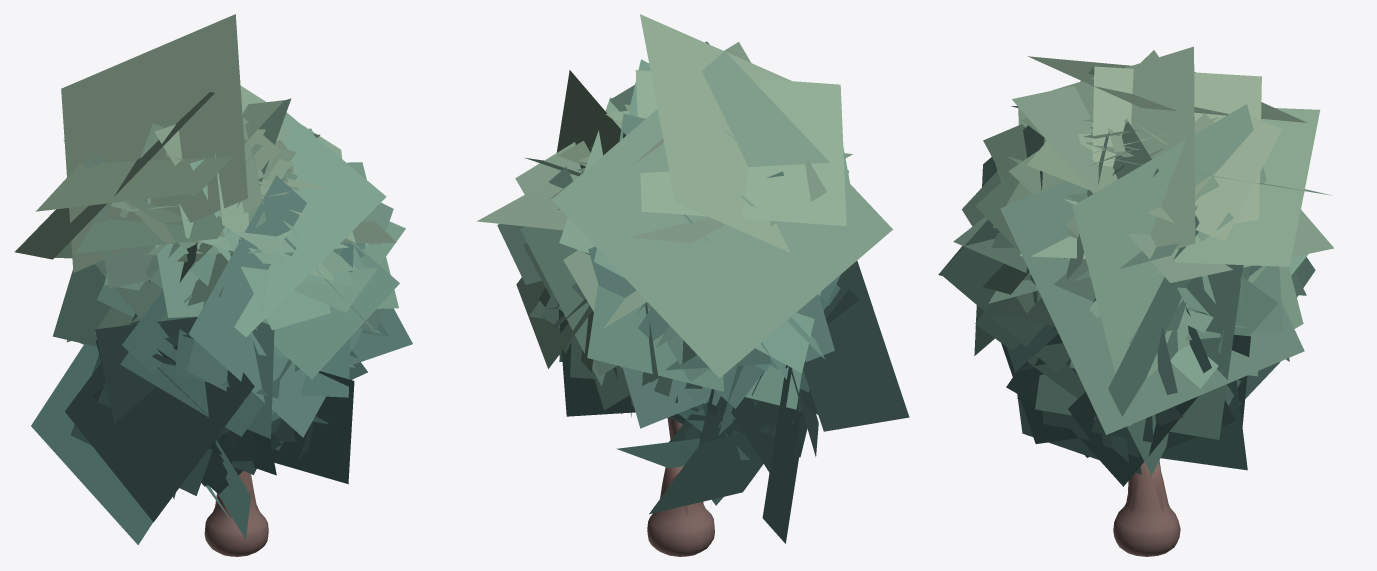
File: yew_v3.glb
3 views of the same model, side by side, from view 1: azimuth 30°, elevation 25°; view 2: azimuth 150°, elevation 25°; view 3: azimuth 270°, elevation 25° (orthographic). The views are drawn at different scales.
Visible parts, largest first — view 1: far, near; view 2: far, near; view 3: far, near.
Boxes of the visible parts, x1=… form: far: x1=14, y1=14, x2=405, y2=544; near: x1=71, y1=114, x2=412, y2=556; far: x1=477, y1=14, x2=909, y2=543; near: x1=523, y1=104, x2=858, y2=556; far: x1=953, y1=46, x2=1333, y2=512; near: x1=938, y1=50, x2=1315, y2=556.
Bounding box in the file's own units: 9.09 × 11.7 × 8.23.
